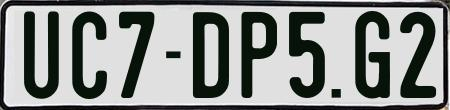2: (400, 11, 432, 103)
5: (288, 11, 324, 98)
7: (119, 10, 155, 98)
C: (71, 8, 112, 99)
D: (190, 11, 230, 99)
G: (355, 8, 396, 101)
P: (240, 9, 281, 100)
U: (22, 11, 57, 103)
